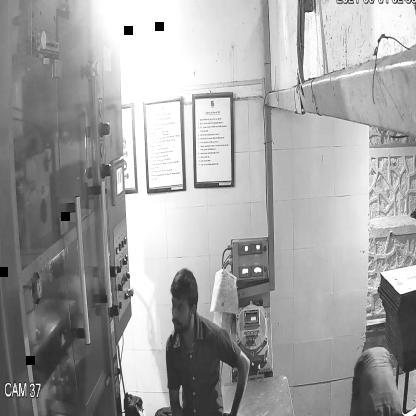no_goggles: (166, 297, 200, 318)
